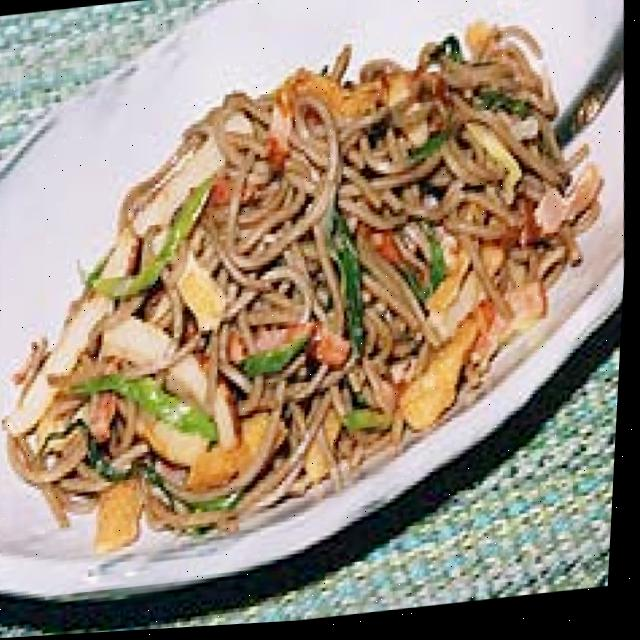面条主食: (0, 0, 622, 577)
